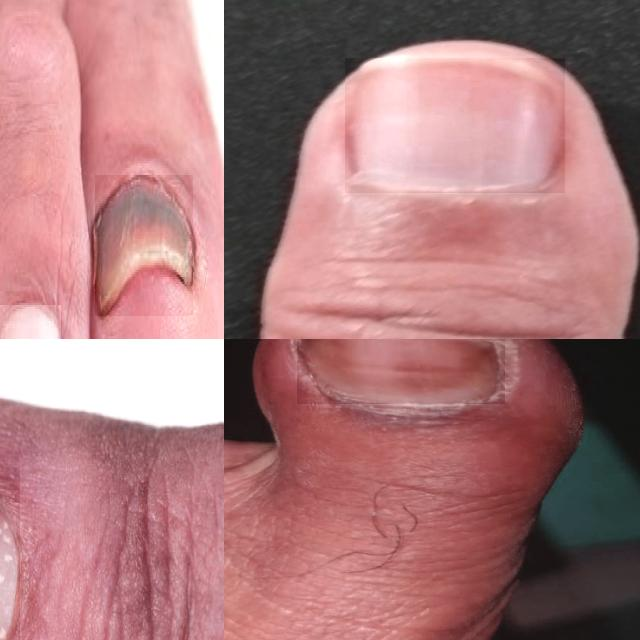diabetes: (95, 176, 193, 316), (297, 339, 505, 404), (0, 305, 60, 339)
sehat: (345, 58, 565, 193)
